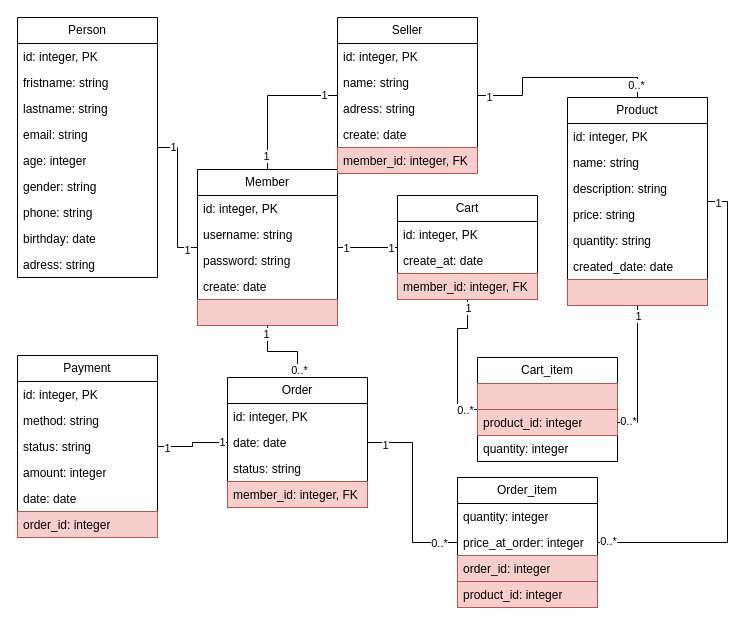
Some shapes in this 746 by 628 pixel diagram are drawn without their labels. Each missing label, with the centre of its shape:
"cart_id: integer" goes at [547,396].
"person_id: integer,FK" goes at [267,312].
"seller: integer, FK" goes at [637,292].
